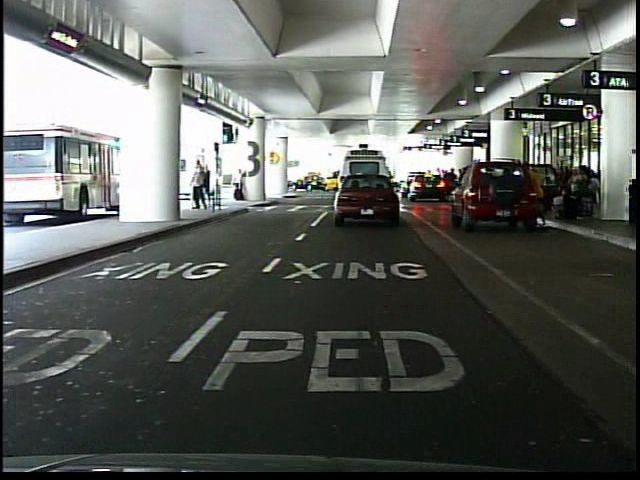person: (523, 159, 551, 225), (190, 159, 209, 216), (230, 165, 249, 203), (203, 163, 215, 212)
